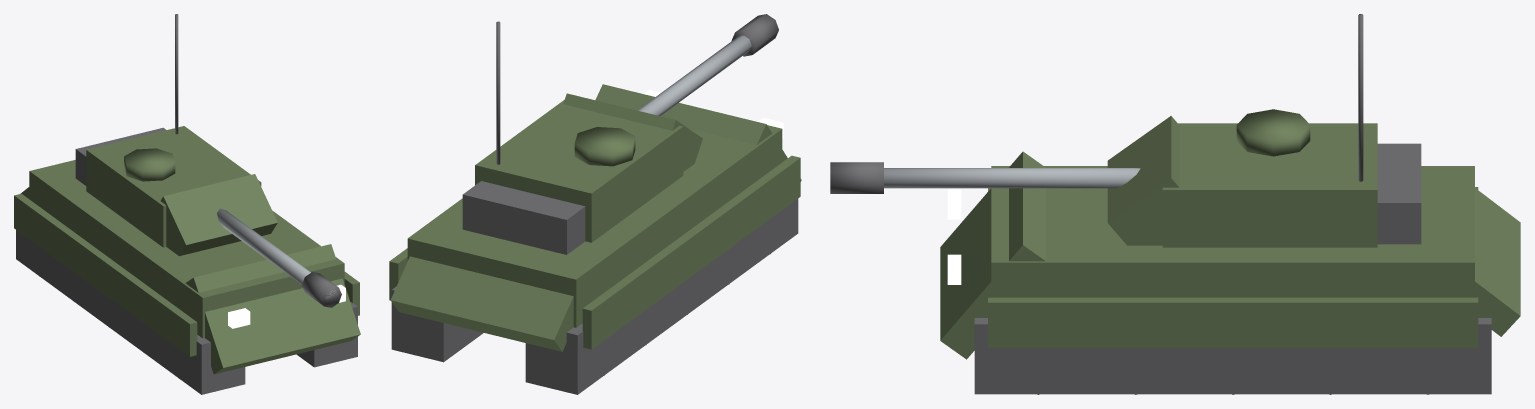
The model's file is afv.glb.
The picture shows the model from 3 angles, left to right: view 1: azimuth 30°, elevation 25°; view 2: azimuth 150°, elevation 25°; view 3: azimuth 270°, elevation 25°; orthographic projection. The views are drawn at different scales.
Visible parts, largest first — view 1: Merged_CityArmyGreen, Merged_RoofDark, afv_barrel, Merged_LampGlow; view 2: Merged_CityArmyGreen, Merged_RoofDark, afv_barrel; view 3: Merged_CityArmyGreen, Merged_RoofDark, afv_barrel, Merged_LampGlow.
Part boxes in pixels (bbox=[...]): Merged_CityArmyGreen: bbox=[14, 126, 360, 378]; Merged_RoofDark: bbox=[16, 14, 357, 394]; afv_barrel: bbox=[217, 208, 336, 302]; Merged_LampGlow: bbox=[228, 284, 345, 328]; Merged_CityArmyGreen: bbox=[389, 84, 801, 375]; Merged_RoofDark: bbox=[391, 14, 798, 394]; afv_barrel: bbox=[637, 35, 751, 115]; Merged_CityArmyGreen: bbox=[940, 109, 1520, 394]; Merged_RoofDark: bbox=[830, 14, 1491, 394]; afv_barrel: bbox=[884, 168, 1140, 188]; Merged_LampGlow: bbox=[947, 189, 961, 284].
Size of the model in its own units: 4.08 by 5.77 by 10.28.
